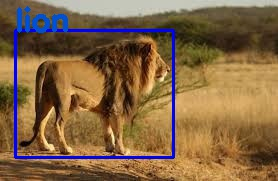lion: (14, 30, 172, 157)
